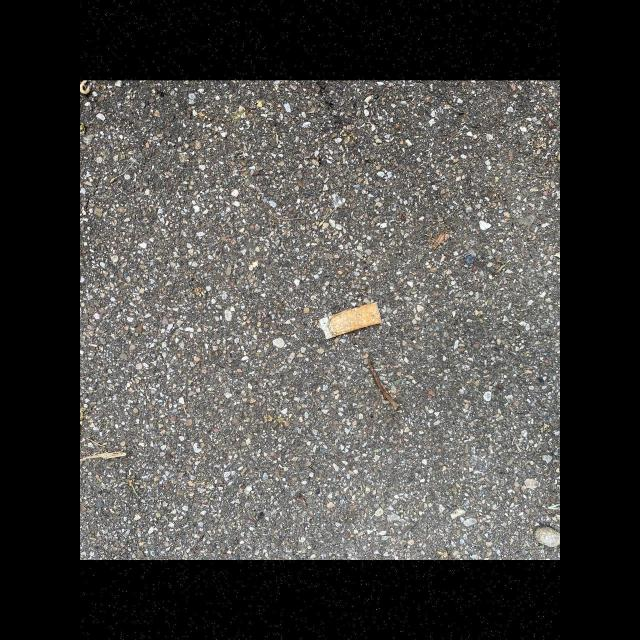cigarette: (317, 302, 383, 340)
